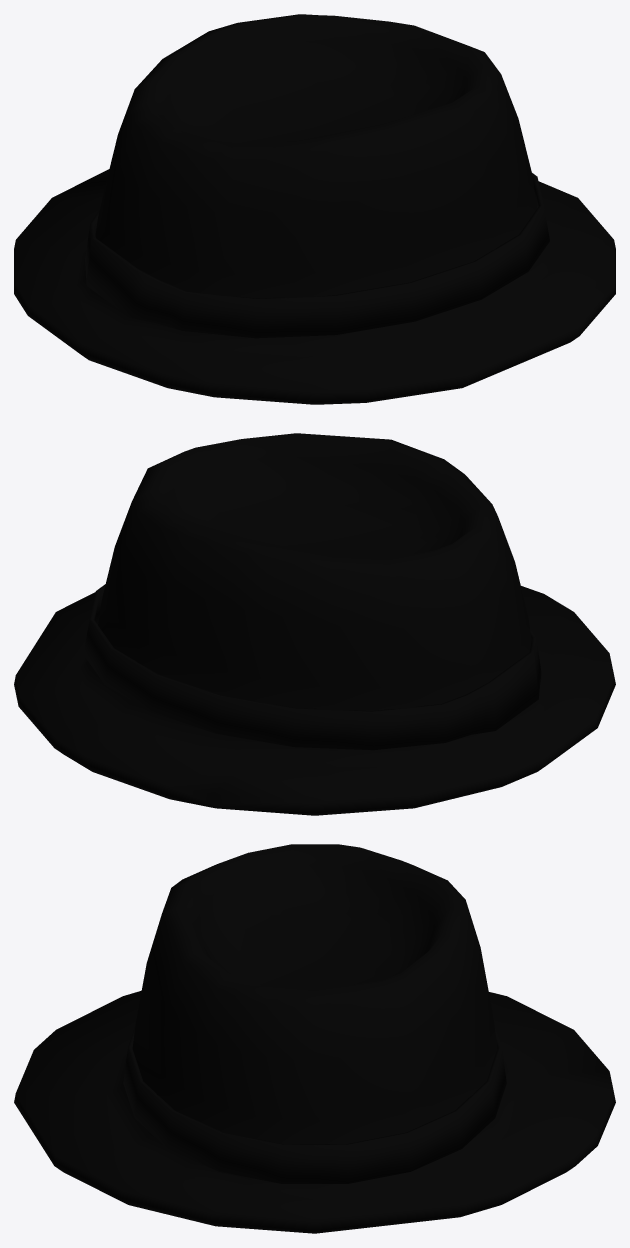
The model's file is fedora.fbx.
3 views of the same model, one above another, from view 1: azimuth 30°, elevation 25°; view 2: azimuth 150°, elevation 25°; view 3: azimuth 270°, elevation 25° (orthographic).
Visible parts, largest first — view 1: Cylinder.007; view 2: Cylinder.007; view 3: Cylinder.007.
Part boxes in pixels (<box>): Cylinder.007: <box>14,14,615,404</box>; Cylinder.007: <box>14,433,615,815</box>; Cylinder.007: <box>14,844,615,1233</box>.
Size of the model in its own units: 28.61 by 10.94 by 28.83.
